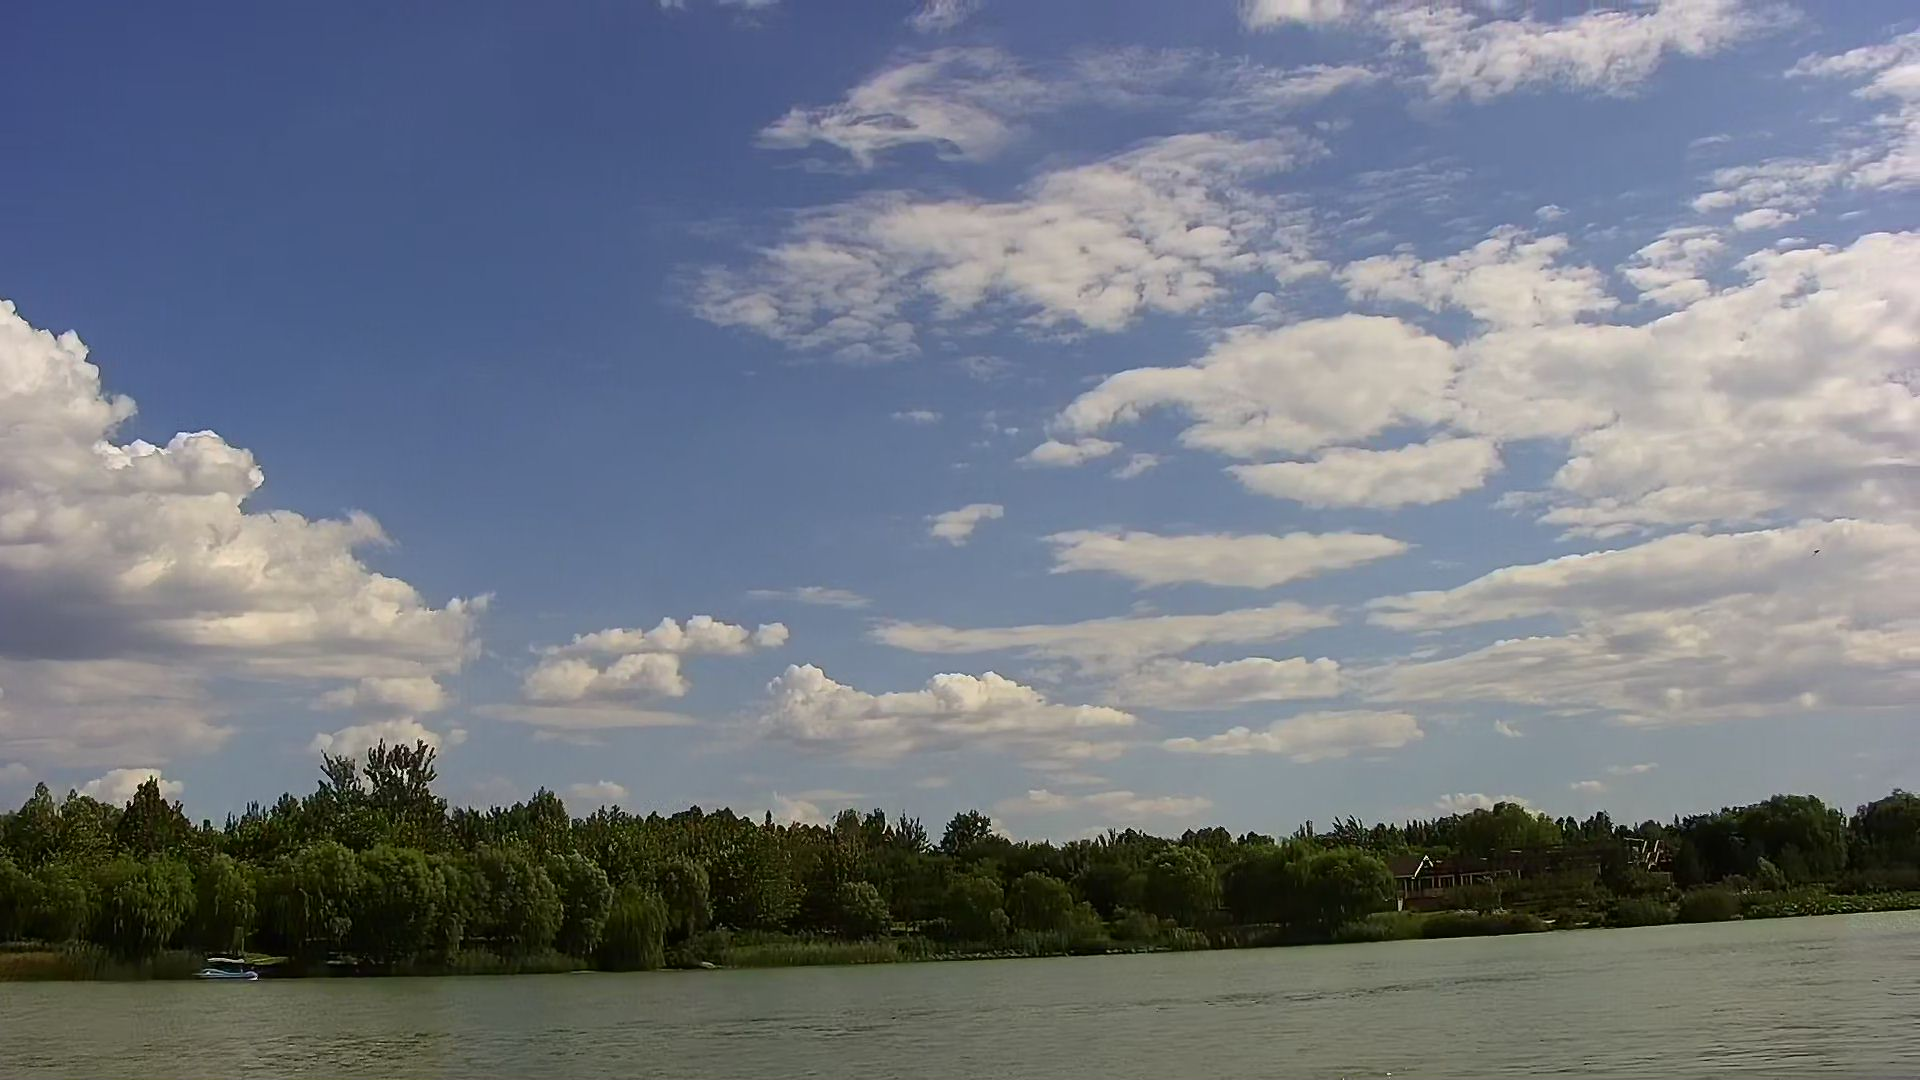boat: (189, 953, 261, 982)
